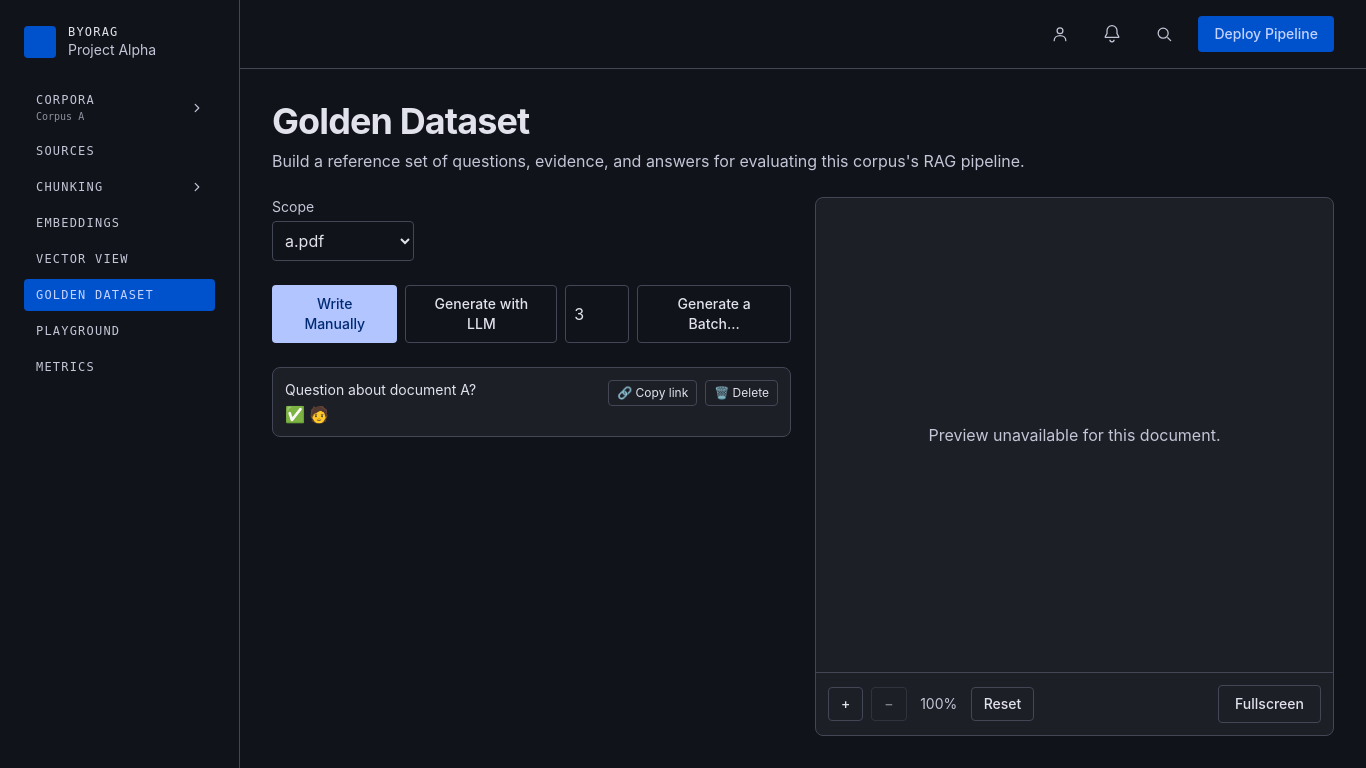
GoldenDatasetScreen — entry list respects the scope dropdown (030-golden-dataset-entry-detail US1) › shows every entry across all documents when "Entire Corpus" is selected
Select "Entire Corpus" in the dropdown labelled "Scope": [343, 241] box [272,221,414,261]
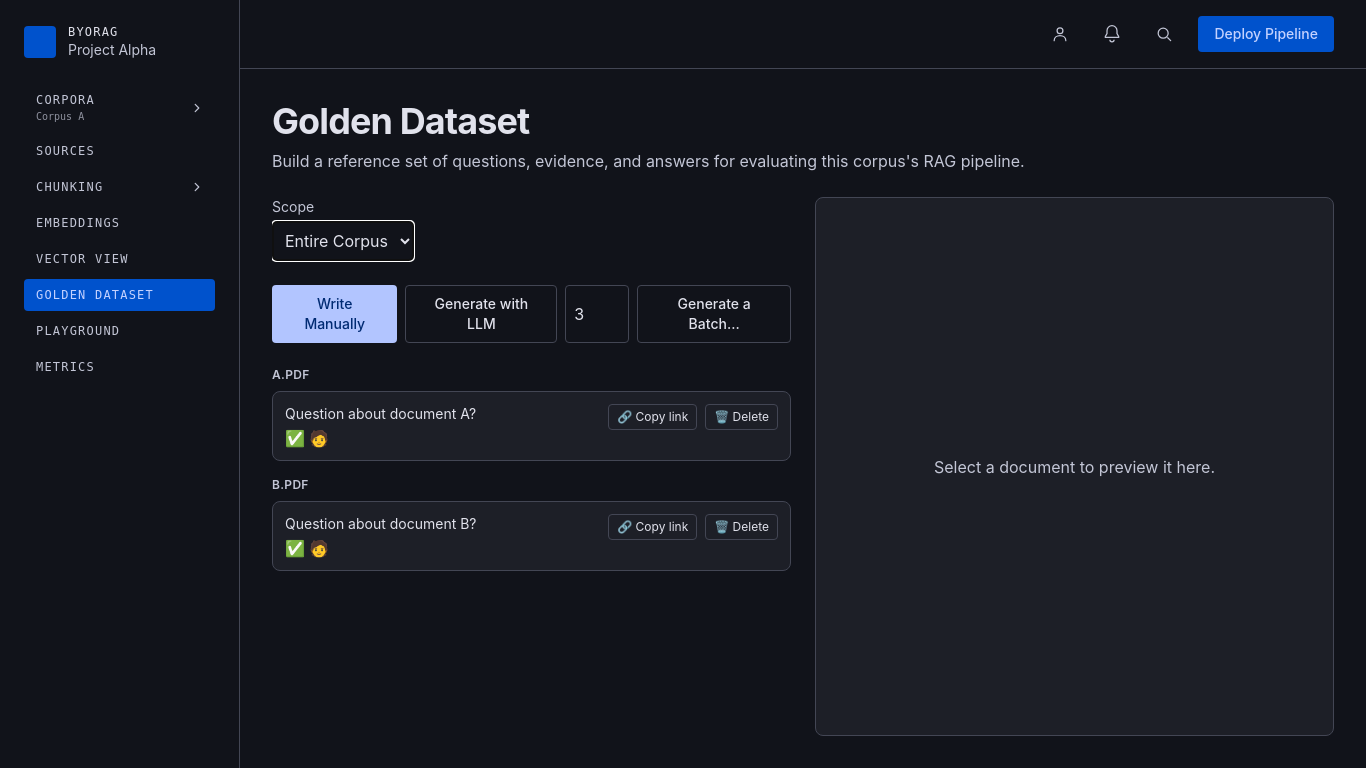
expect the button "Question about document A?" is shown: met, box [285,404,476,424]
expect the button "Question about document B?" is shown: met, box [285,514,476,534]
